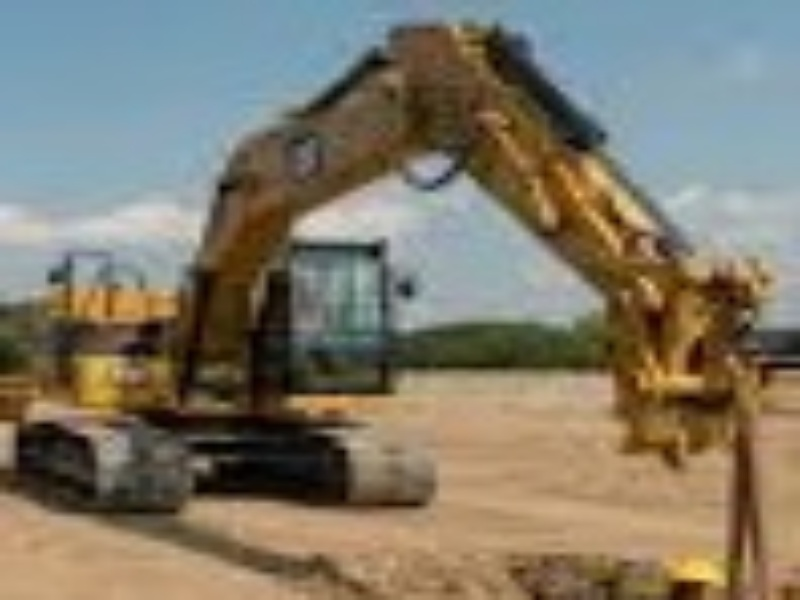wajueji: (29, 170, 491, 543)
